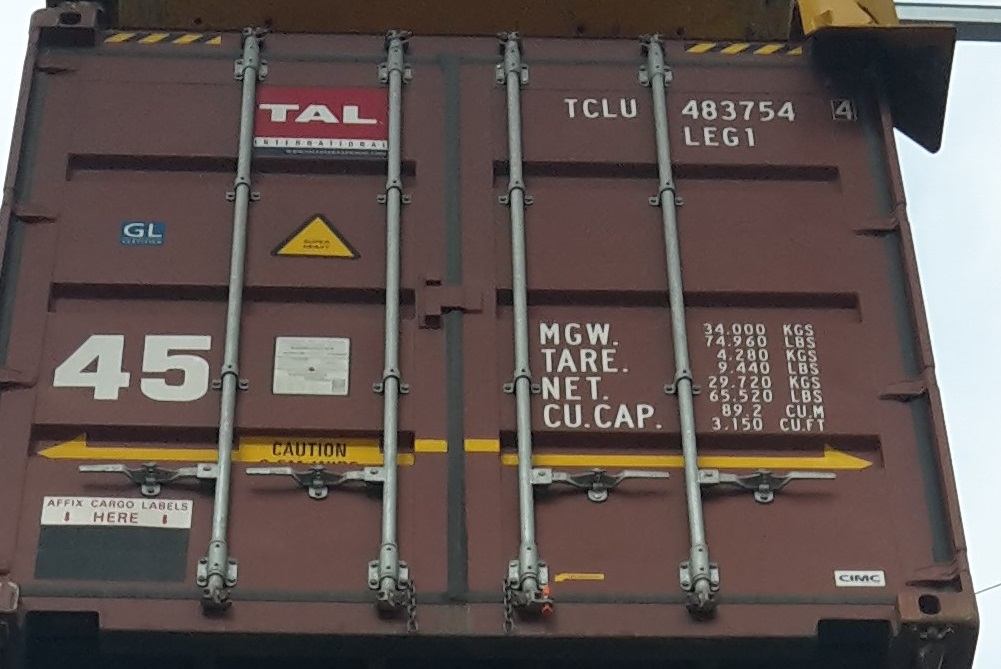container_door: (5, 33, 968, 627)
